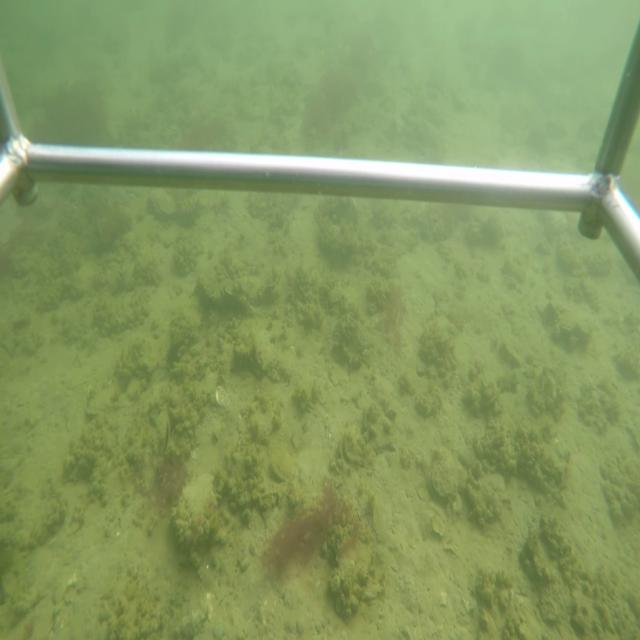Oyster-Indeterminate: (193, 241, 286, 312)
Oyster-Open: (335, 424, 374, 473), (155, 403, 172, 460)
